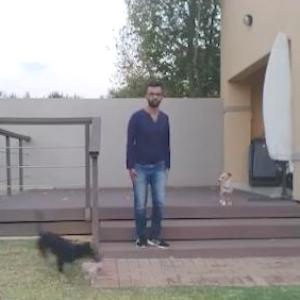follow: (123, 82, 170, 277)
